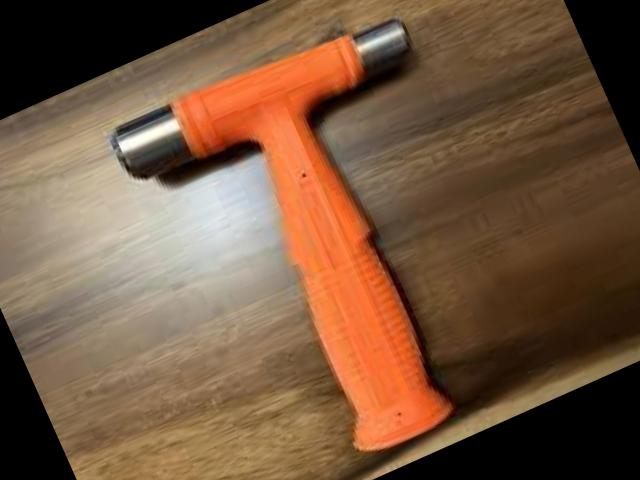hammer: (104, 1, 563, 480)
